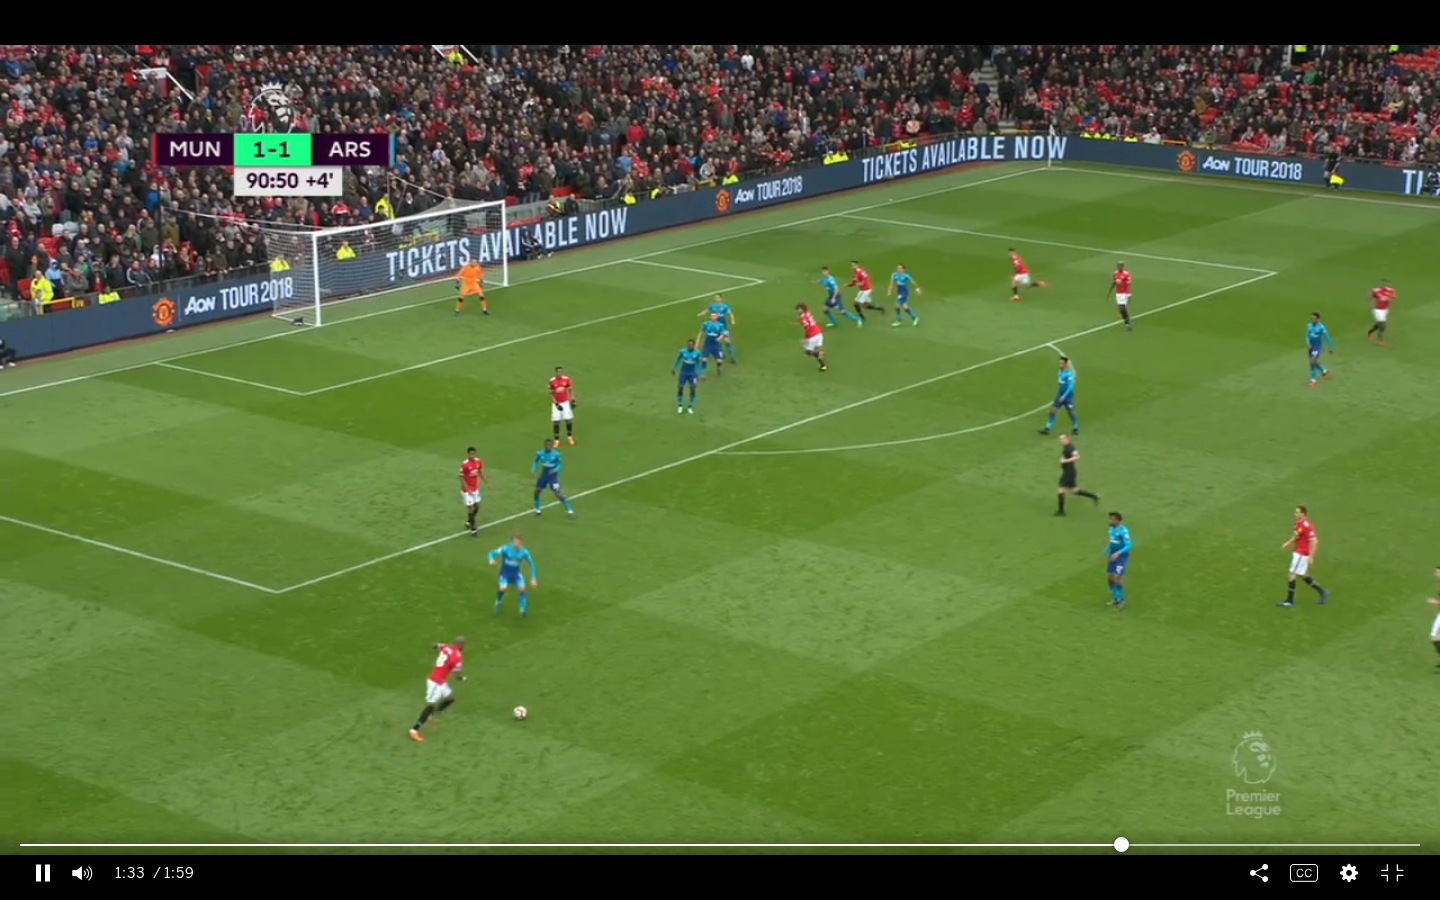referee: (1050, 432, 1102, 522)
soccer player: (412, 632, 472, 736), (1279, 502, 1327, 623), (482, 534, 542, 623), (1095, 508, 1142, 608), (1036, 354, 1084, 440), (455, 439, 493, 539), (530, 437, 570, 525), (1004, 240, 1047, 309), (787, 299, 828, 369), (701, 294, 738, 372), (544, 359, 576, 448), (452, 257, 492, 325), (1301, 308, 1333, 389), (1365, 274, 1401, 346), (845, 257, 879, 331), (672, 339, 704, 417), (884, 260, 921, 326), (815, 262, 848, 332), (1107, 260, 1138, 332)
soccerball: (512, 702, 528, 726)
